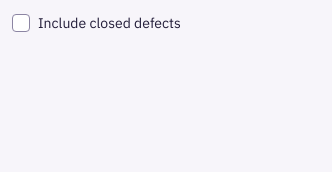
Test: Checkbox › toggles from its label and from the keyboard
Click the text "Include closed defects" at (96, 23), box x1=12 y1=12 x2=181 y2=34
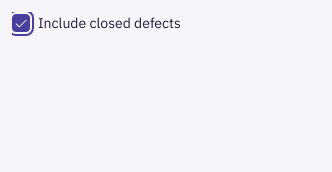
Expected: the checkbox labelled "Include closed defects" is checked, x1=12 y1=14 x2=30 y2=32
Type keys " "
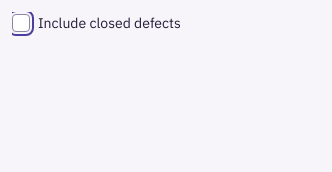
Expected: the checkbox labelled "Include closed defects" is not checked, x1=12 y1=14 x2=30 y2=32
